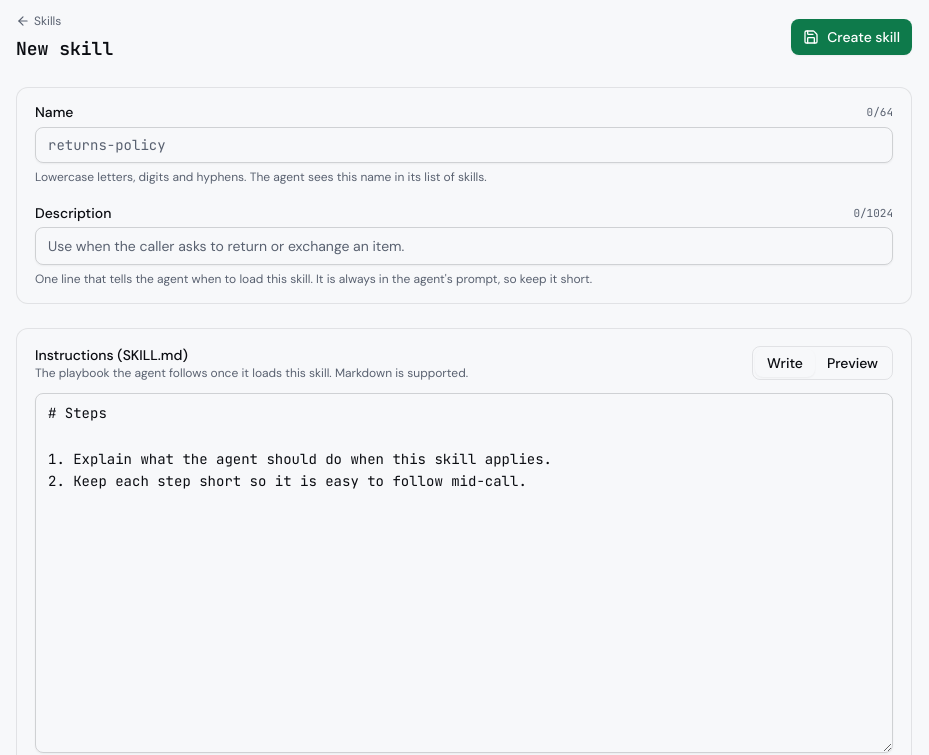
Test: WorkspaceSkillEditor › shows the limit message when the workspace is full
In the field labelled "Name": point(464, 144) [35,126,893,162], type "faq"
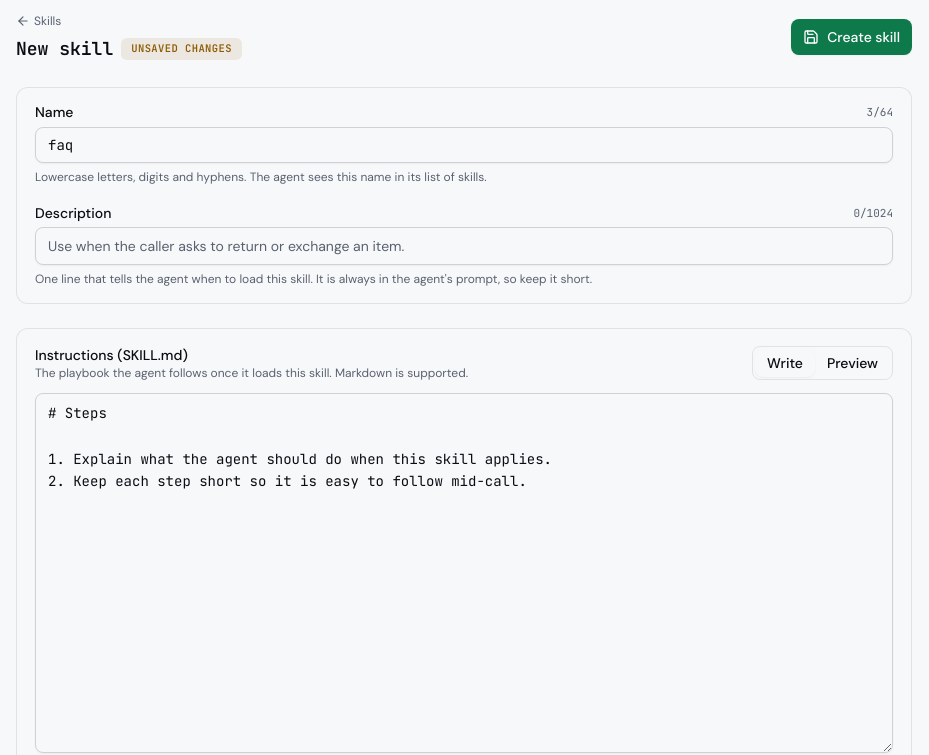
In the text box labelled "Description": point(464, 246) [35,227,893,265], type "Answers FAQs."
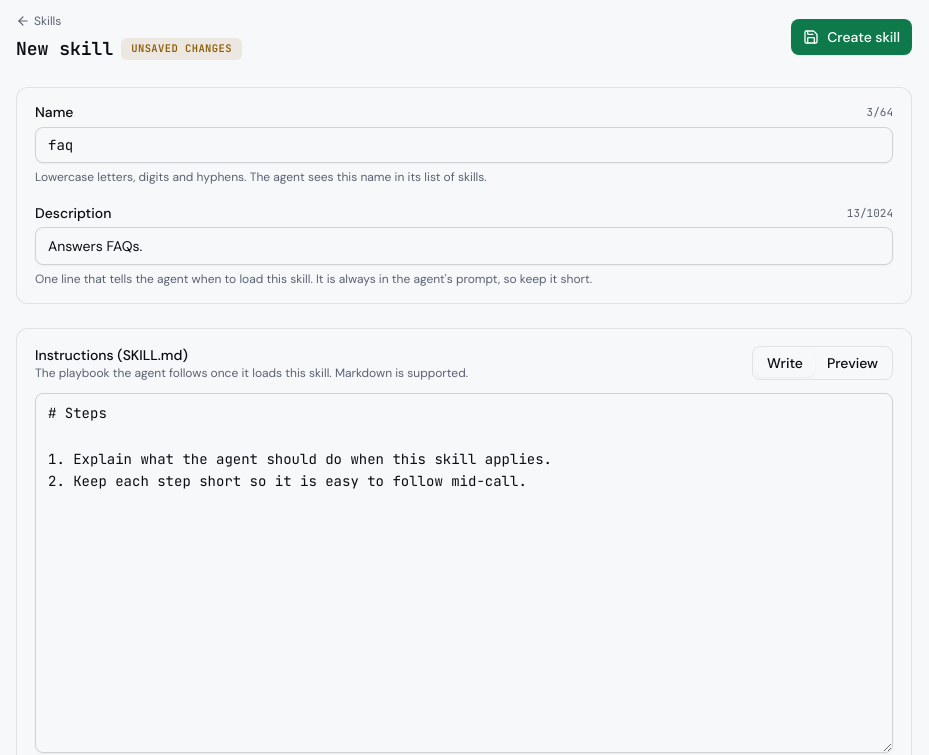
Click the button "Create skill": point(852, 37) [791,19,912,55]
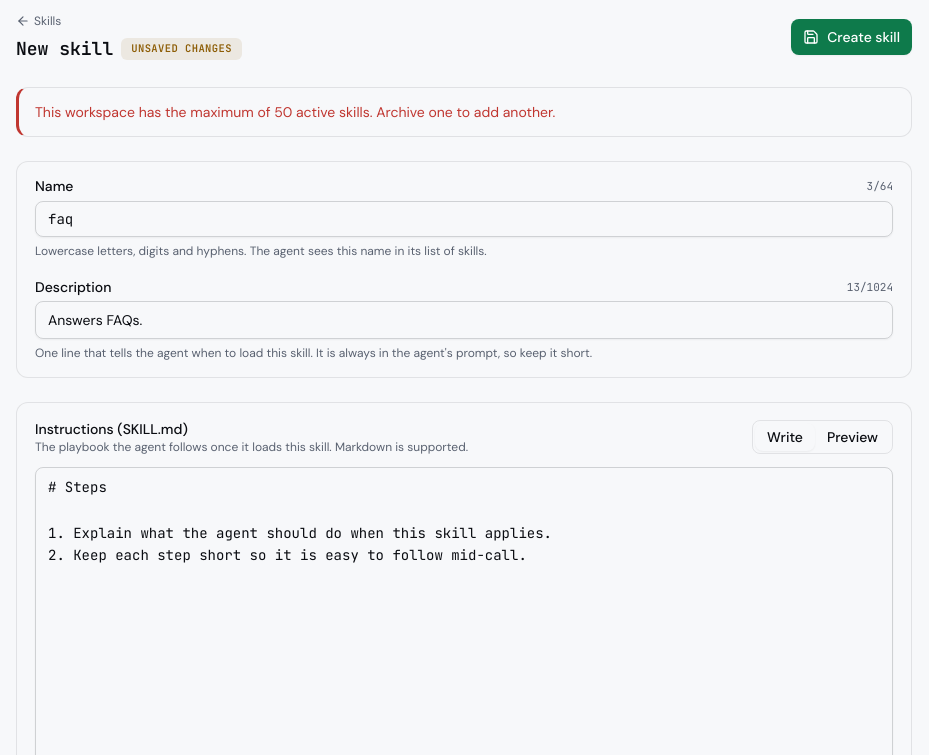
Now the text "maximum of 50 active skills" is shown, box [35,103,555,121]
